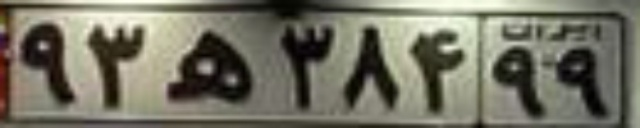3: (84, 22, 150, 109), (276, 23, 335, 110)
4: (402, 29, 468, 110)
8: (342, 26, 400, 111)
9: (18, 18, 76, 103), (550, 48, 608, 119), (488, 44, 544, 116)
he: (162, 28, 257, 104)
